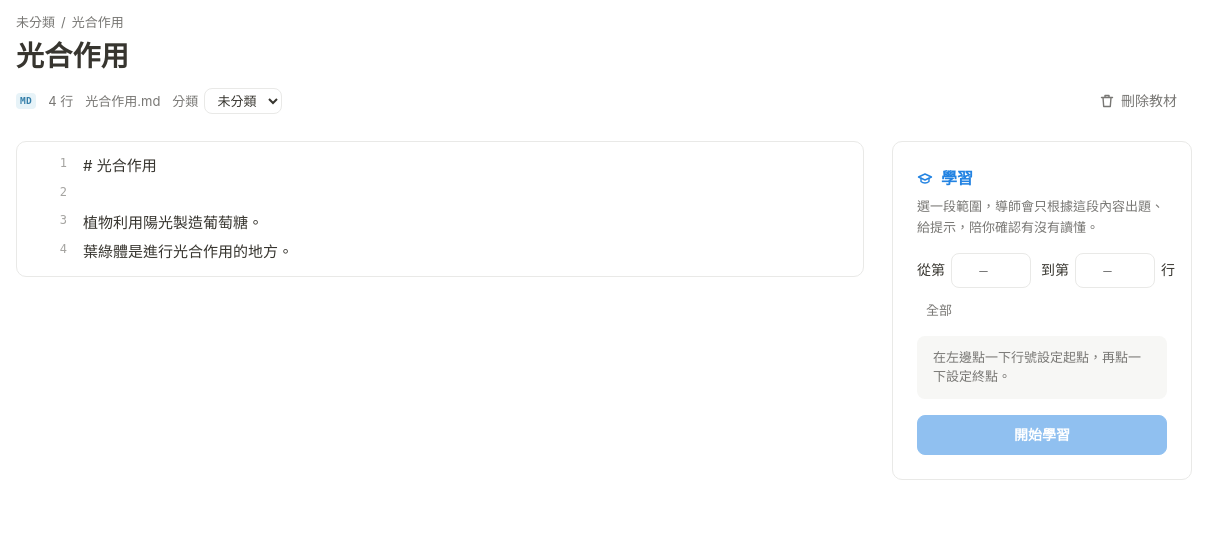
Test: MaterialPage › shows the backend's reason when questions cannot be generated
Click the element with test id "unit" showing "4 葉綠體是進行光合作用的地方。": (157, 252) [21,238,293,266]
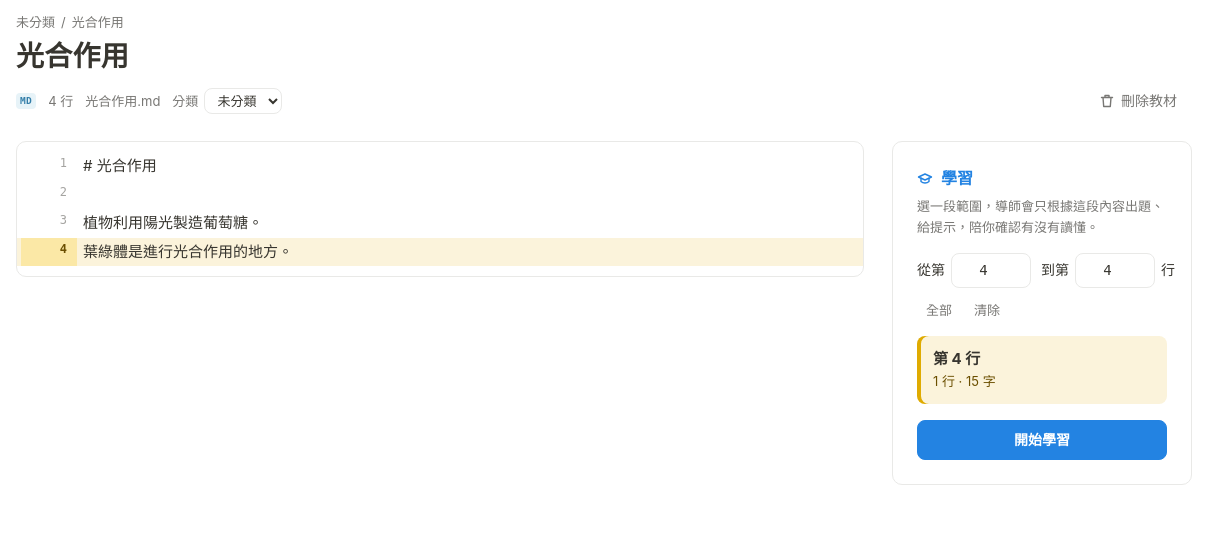
Click the button "開始學習": (1042, 440) [917,420,1167,460]
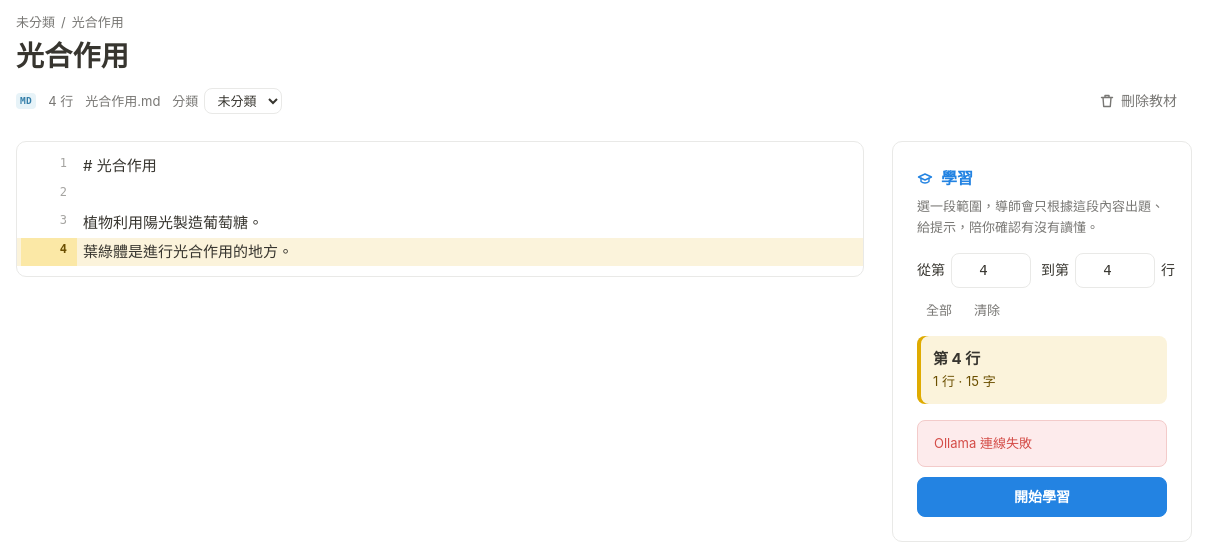
Expected: the element with test id "range-summary" shows "第 4 行", [933,349,980,368]
Expected: the message reads "Ollama 連線失敗", [934,435,1032,451]
